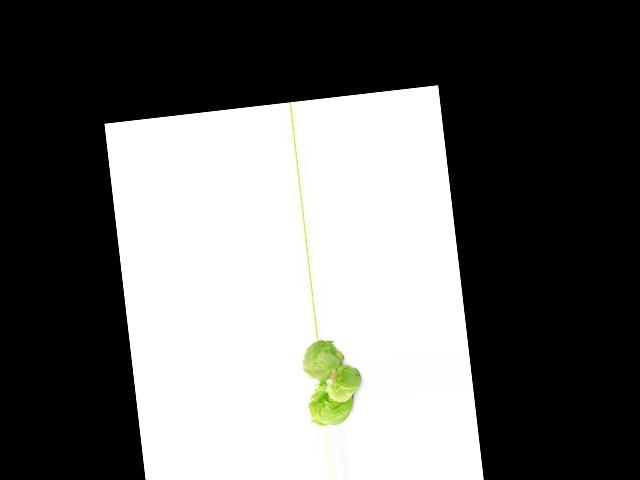lettuce: (309, 384, 352, 425)
